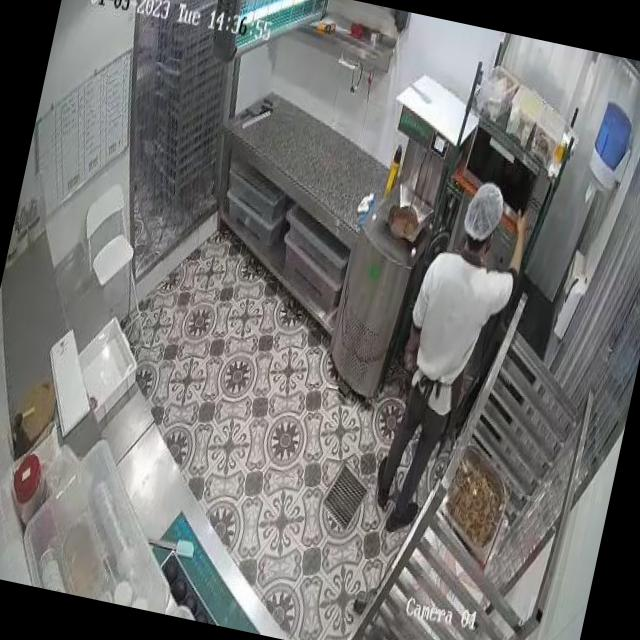hairnet: (463, 182, 504, 245)
